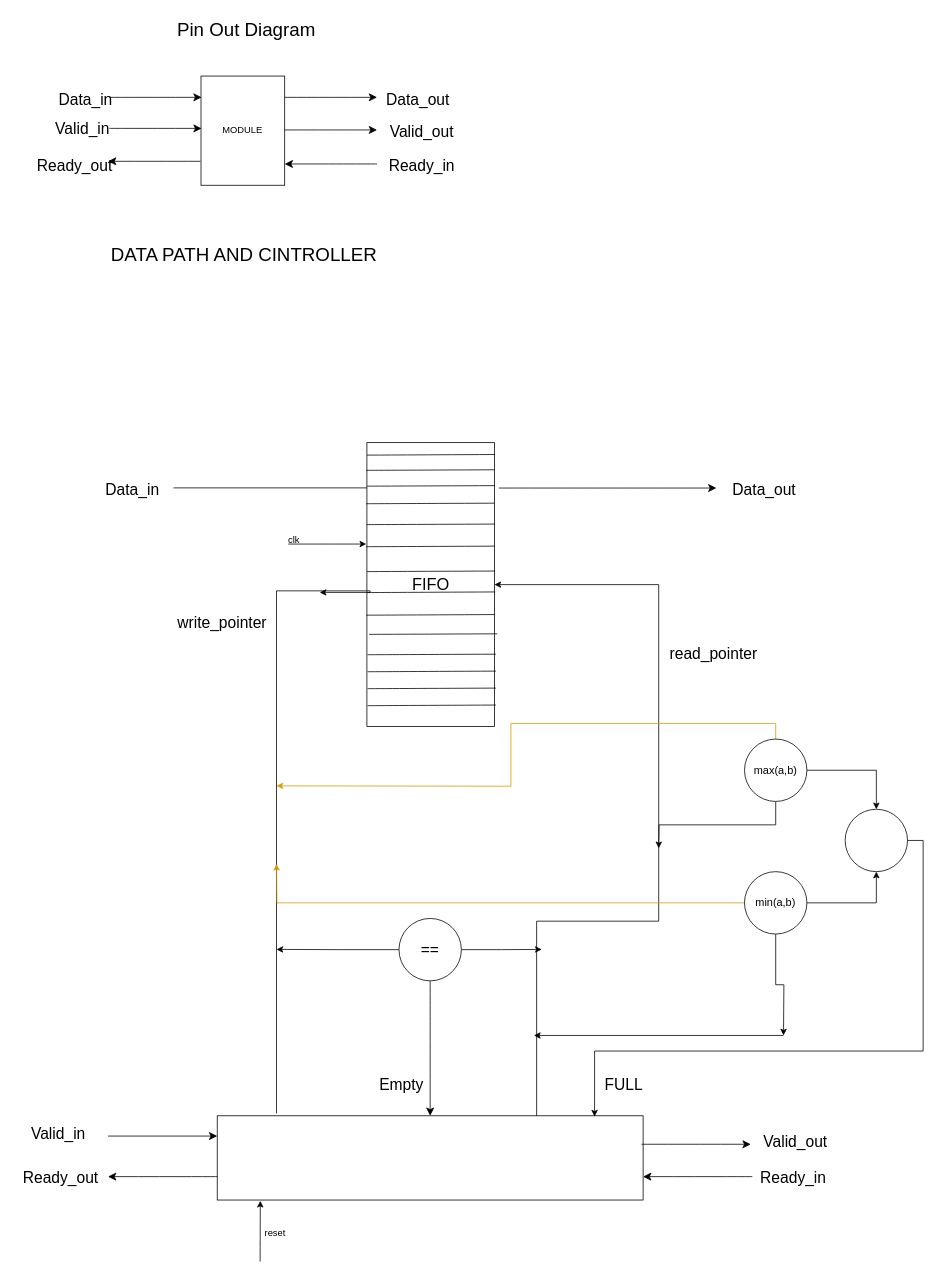
This 943x1275 diagram has some shape labels left out. The centre of each missing label's shape, as x and y in pixels:
a - b: the point at 876,840
CTRL: the point at 429,1157
